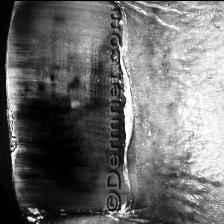Toxin: (7, 0, 124, 217)
